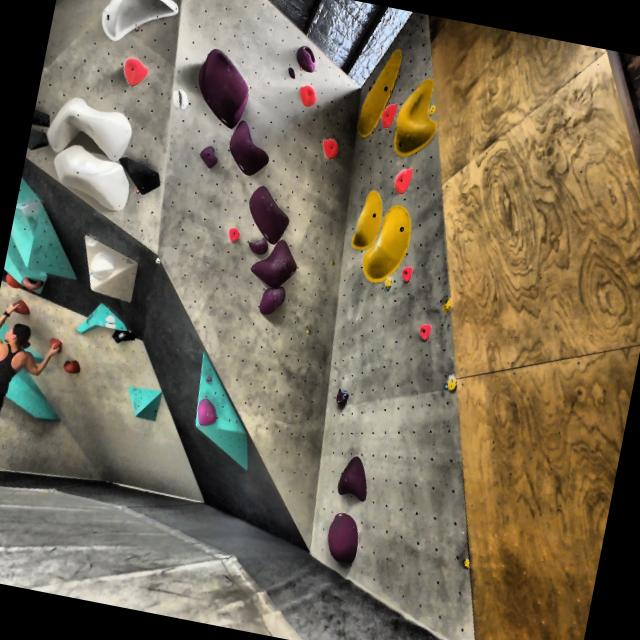Hold: (46, 142, 142, 219), (42, 89, 140, 164), (190, 44, 258, 134), (361, 198, 419, 288), (352, 44, 404, 144), (389, 70, 442, 160), (97, 0, 186, 53), (240, 181, 294, 241), (224, 120, 272, 178), (349, 185, 386, 255), (330, 452, 376, 506), (322, 512, 363, 564), (122, 150, 168, 196), (256, 282, 294, 318), (118, 48, 154, 86), (314, 132, 344, 165), (293, 36, 321, 70), (168, 82, 196, 116), (195, 392, 221, 428), (380, 98, 404, 136), (387, 163, 413, 196), (88, 248, 114, 280), (244, 235, 274, 262), (112, 325, 141, 351), (56, 357, 86, 381), (332, 384, 354, 414), (10, 304, 40, 324), (200, 143, 222, 169), (294, 88, 320, 110), (415, 321, 436, 348), (27, 130, 50, 154), (442, 371, 462, 398), (19, 277, 49, 294), (32, 106, 53, 130), (44, 335, 68, 354), (224, 225, 244, 244), (440, 293, 456, 315), (100, 312, 119, 330), (458, 556, 473, 574), (284, 59, 296, 80), (152, 254, 170, 268)
